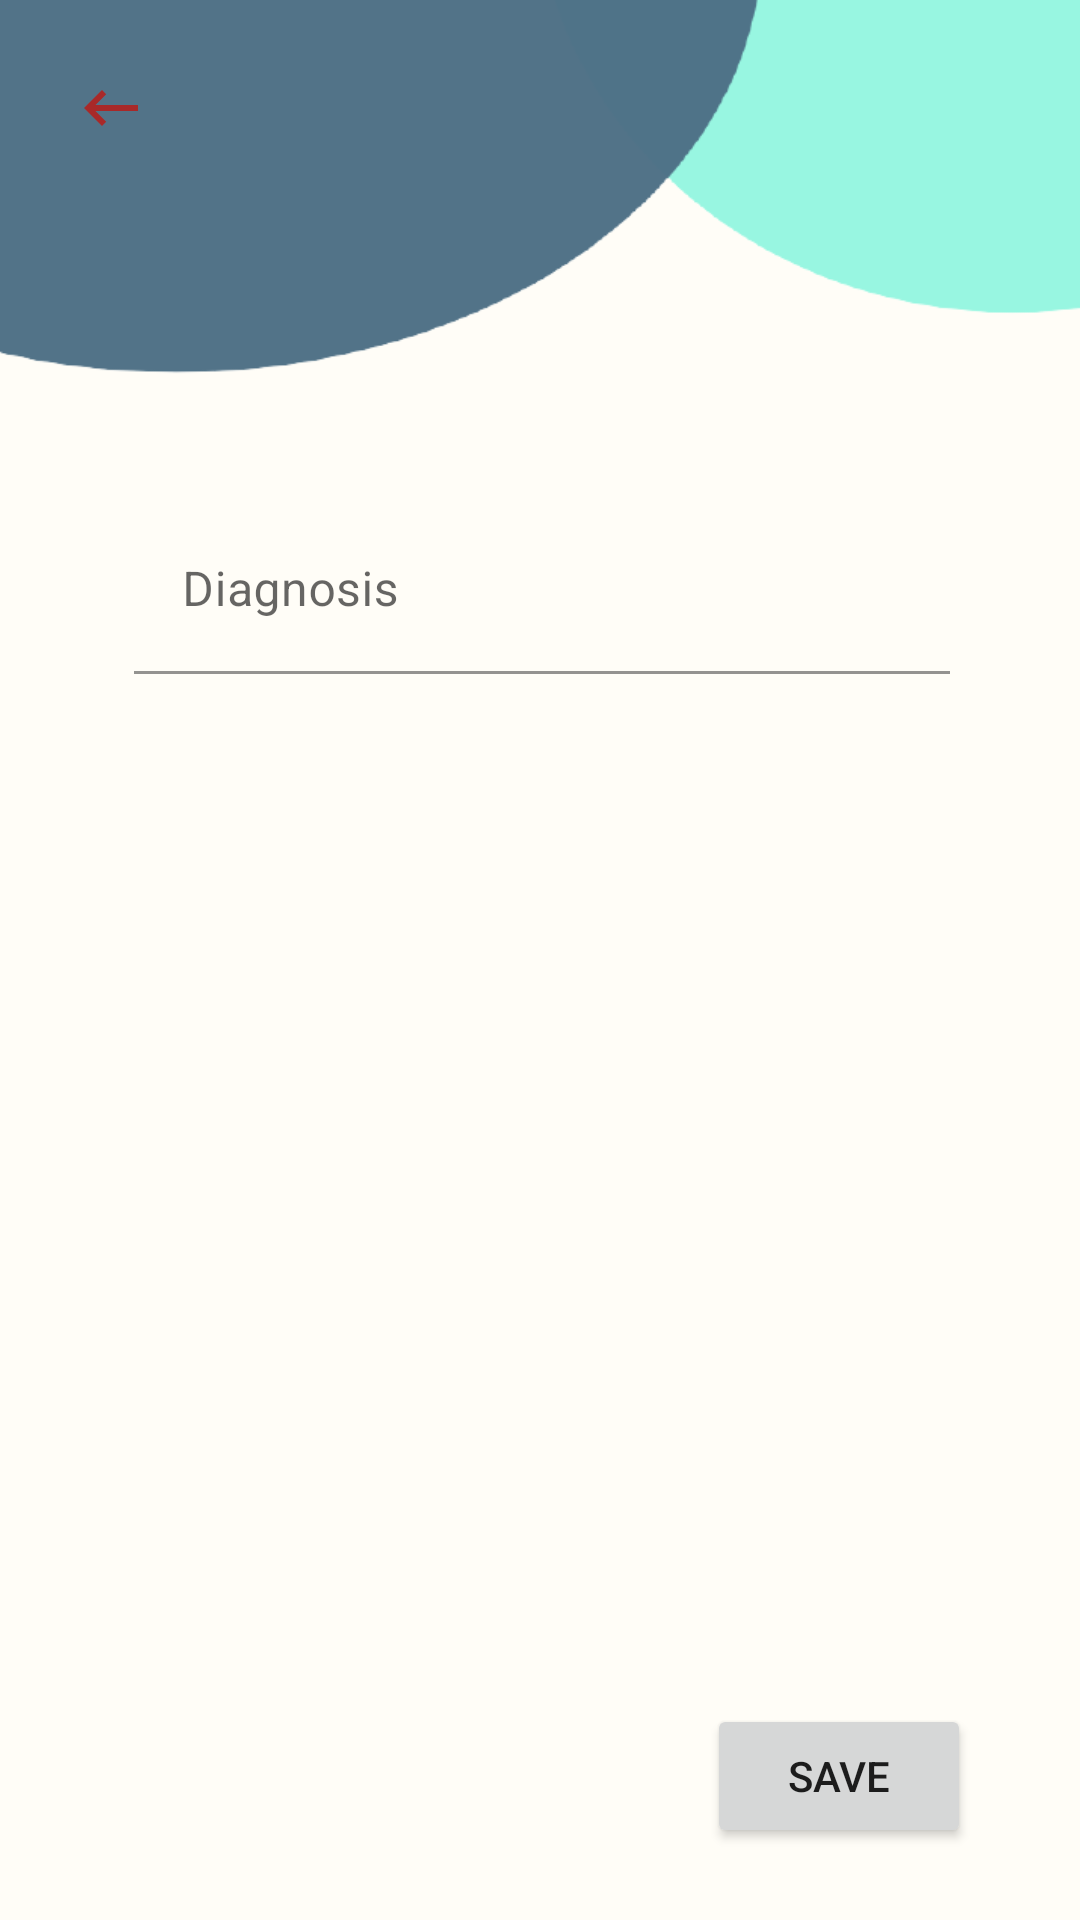

Icons on this 1080w x 1920h Android screen, each with the point to tap as (x,y):
arrow back: (111,108)
